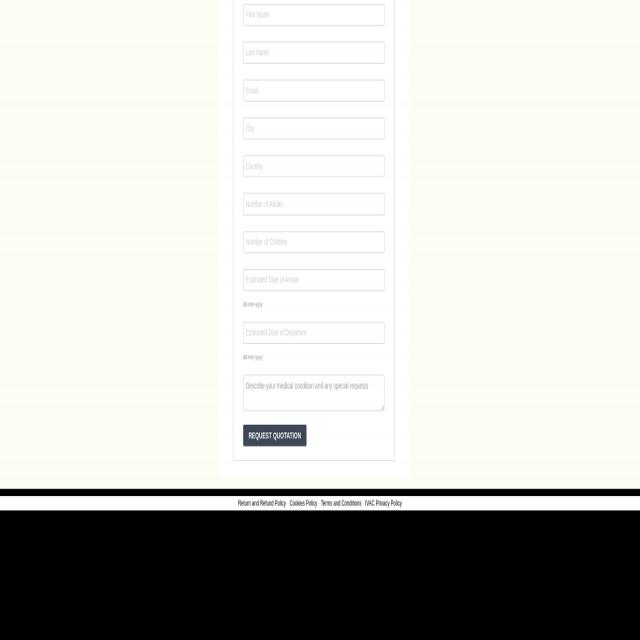button: (243, 425, 307, 446)
field: (243, 374, 384, 410), (243, 80, 384, 101), (243, 118, 384, 139), (243, 156, 384, 177), (243, 194, 384, 215), (243, 322, 384, 343), (243, 42, 384, 63), (243, 5, 384, 25), (243, 232, 384, 252), (243, 270, 384, 290)
